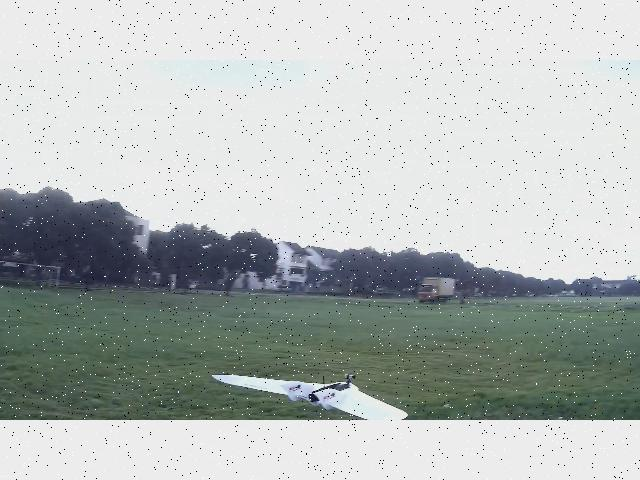Anti-Drone: (208, 350, 414, 420)
